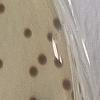black: (60, 77, 73, 92), (28, 66, 39, 80), (53, 55, 64, 68), (38, 52, 48, 66), (53, 17, 62, 32), (23, 28, 33, 40), (46, 32, 54, 42), (0, 3, 6, 15), (28, 93, 37, 100), (0, 57, 4, 70)
